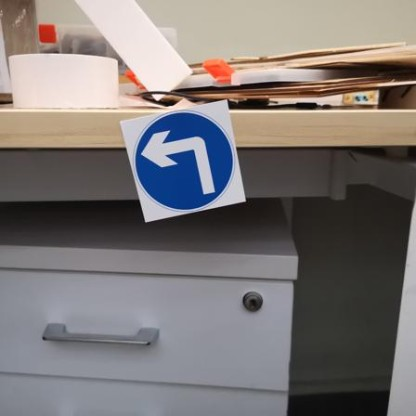left: (121, 111, 250, 214)
